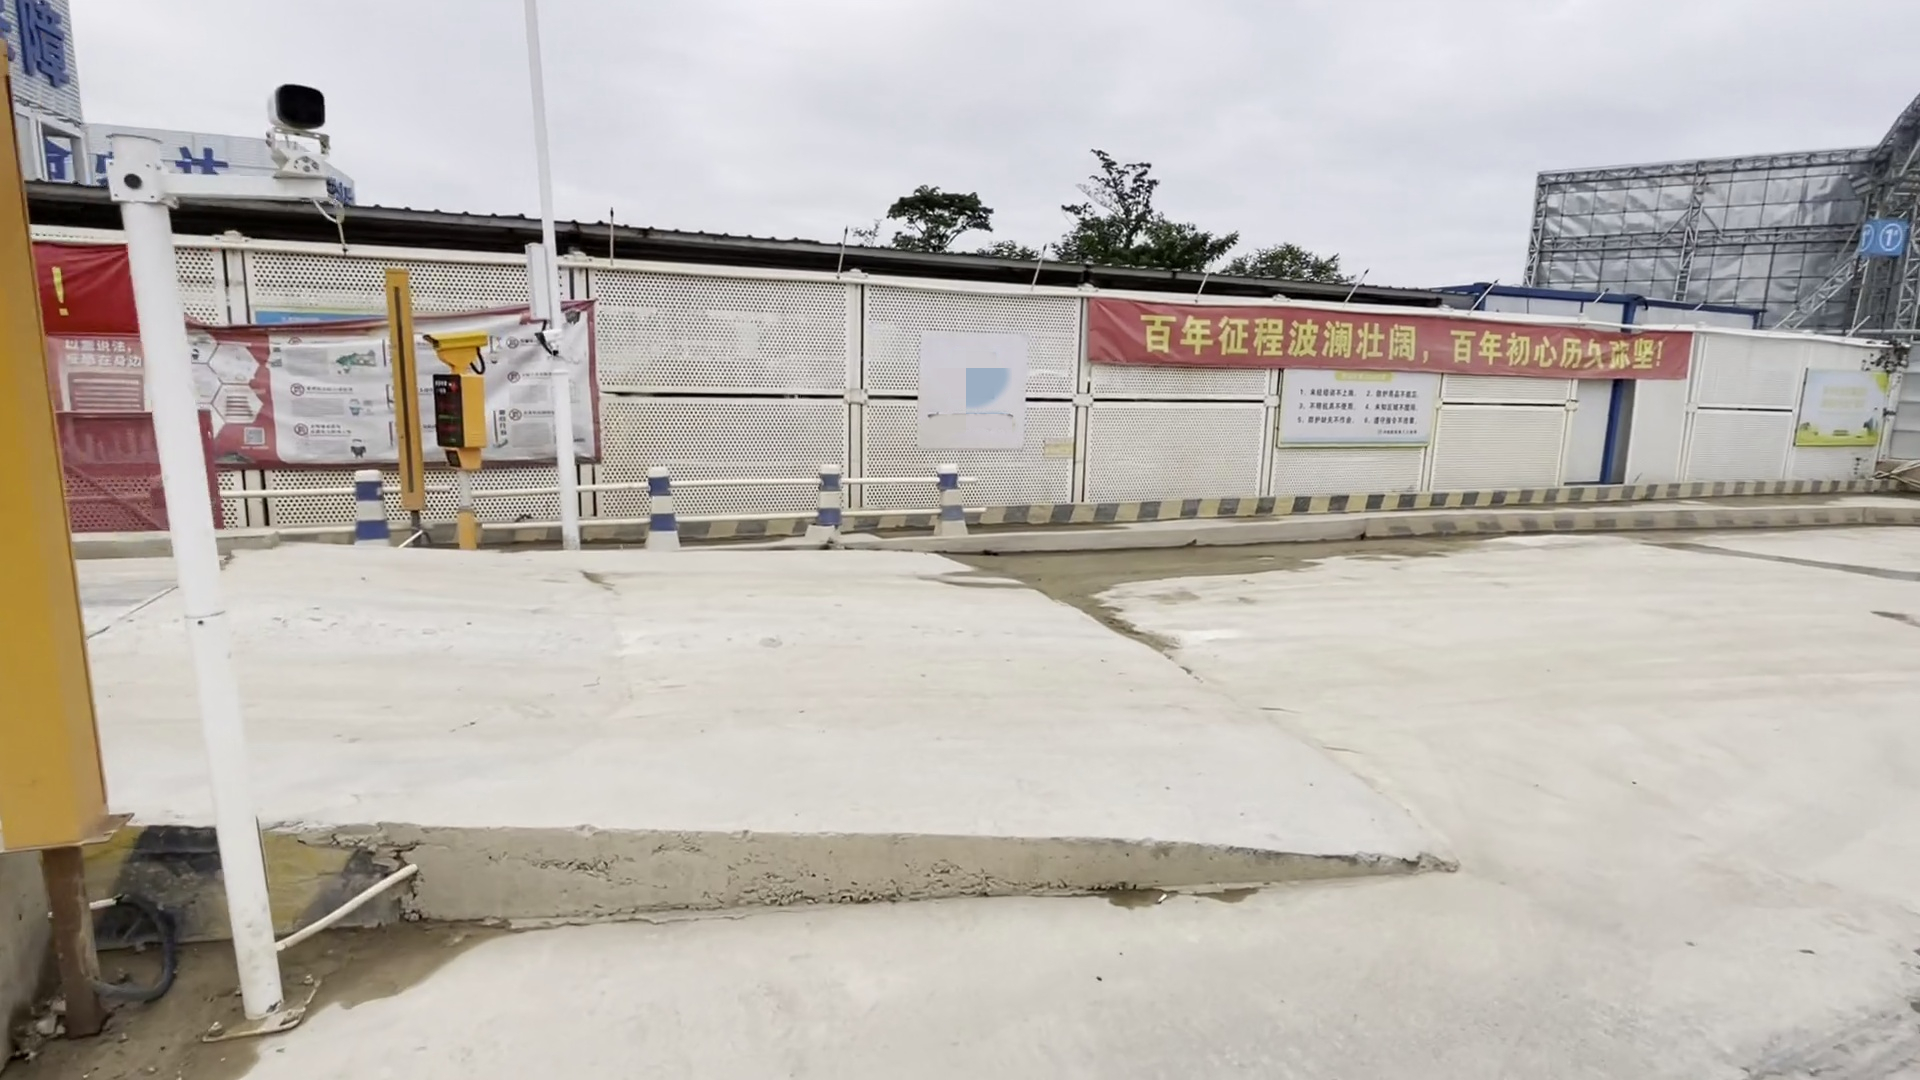slogan: (1122, 297, 1677, 382), (1284, 368, 1433, 440)
